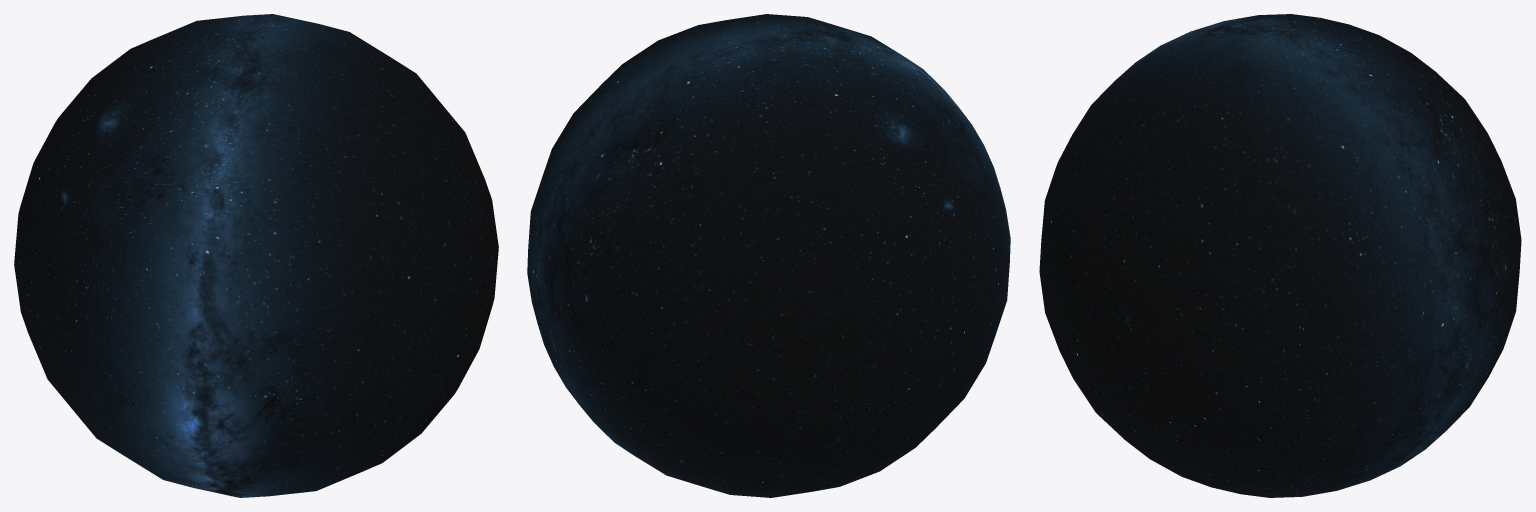
The model's file is universe-only.glb.
3 views of the same model, side by side, from view 1: azimuth 30°, elevation 25°; view 2: azimuth 150°, elevation 25°; view 3: azimuth 270°, elevation 25° (orthographic).
Visible parts, largest first — view 1: MainUniverseSky; view 2: MainUniverseSky; view 3: MainUniverseSky.
Boxes of the visible parts, box(x1,y1,x2,y2) form: MainUniverseSky: box(14, 14, 498, 497); MainUniverseSky: box(527, 14, 1010, 497); MainUniverseSky: box(1039, 14, 1521, 497).
Size of the model in its own units: 1996 by 2000 by 1990.
1 material, 1 textured.
